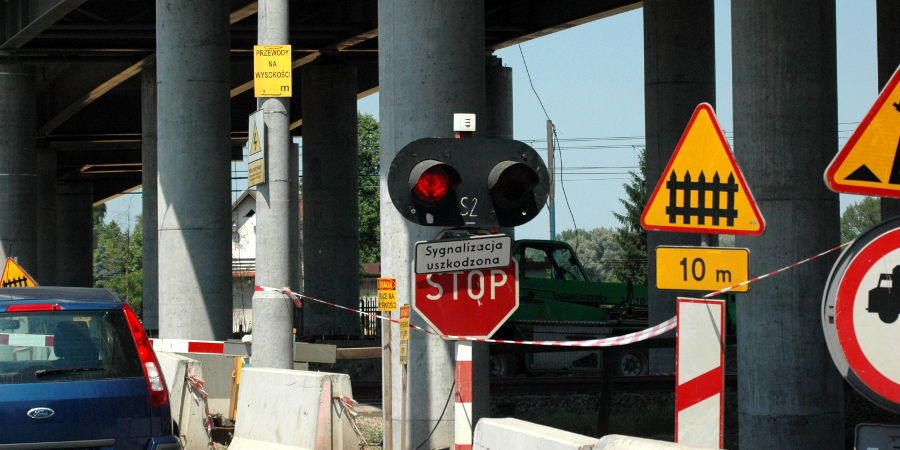a9: (661, 166, 743, 231)
